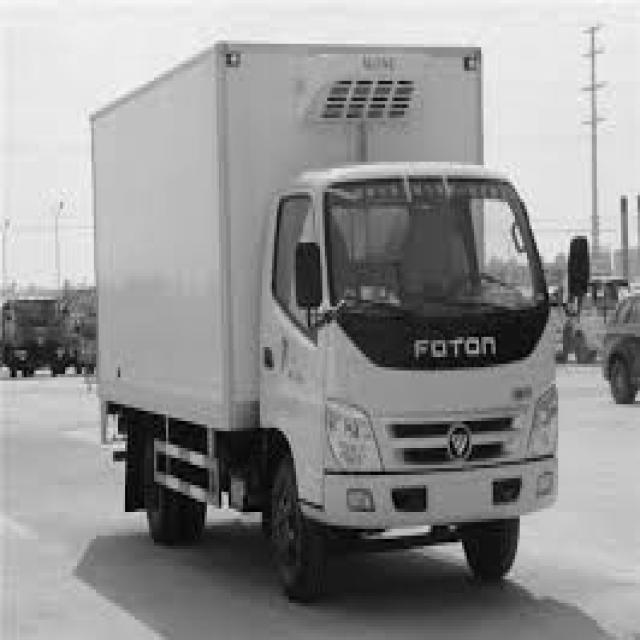truck: (226, 130, 610, 618)
